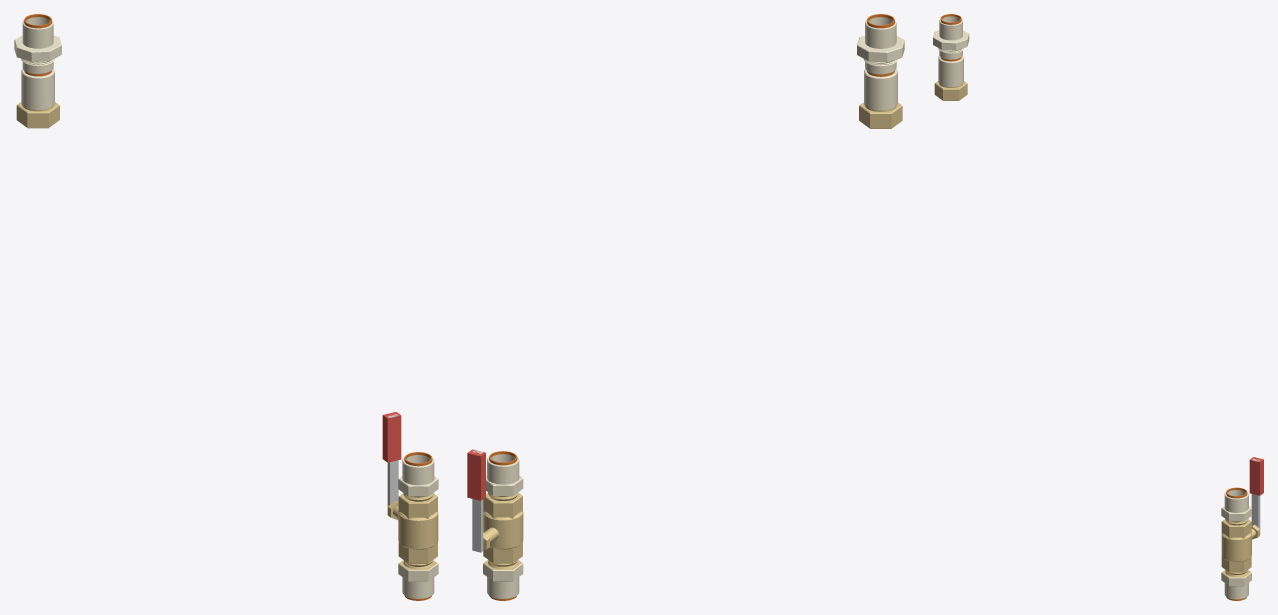
Rendered from pipes_supply__water_heater__880e40f0.glb.
The picture shows the model from 3 angles, left to right: view 1: azimuth 30°, elevation 25°; view 2: azimuth 150°, elevation 25°; view 3: azimuth 330°, elevation 25°; orthographic projection. The views are drawn at different scales.
Visible parts, largest first — view 1: valve_supply_wh_cold, union_supply_wh_cold, fit_fip_wh_cold; view 2: valve_supply_wh_cold, union_supply_wh_cold, fit_fip_wh_cold; view 3: valve_supply_wh_cold, union_supply_wh_cold, fit_fip_wh_cold.
Boxes of the visible parts, <box> form: valve_supply_wh_cold: <box>382,412,438,600</box>; union_supply_wh_cold: <box>14,14,61,76</box>; fit_fip_wh_cold: <box>16,69,59,128</box>; valve_supply_wh_cold: <box>467,449,523,600</box>; union_supply_wh_cold: <box>857,14,904,76</box>; fit_fip_wh_cold: <box>859,69,902,128</box>; valve_supply_wh_cold: <box>1221,457,1263,600</box>; union_supply_wh_cold: <box>933,14,969,60</box>; fit_fip_wh_cold: <box>934,55,967,100</box>.
Bounding box in the file's own units: 0.4269 × 0.6517 × 0.0692.
